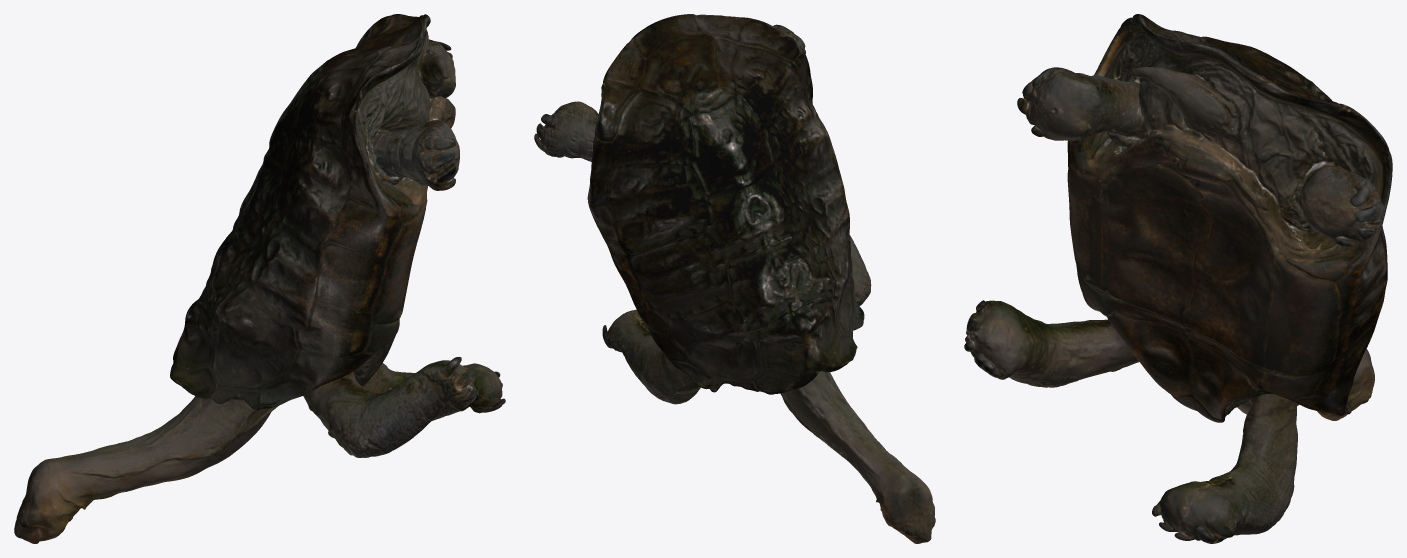
Rendered from NHMW-Zoo1-4196_Galapagosschildkröte_low_res.obj.
3 renders of one model, left to right at view 1: azimuth 30°, elevation 25°; view 2: azimuth 150°, elevation 25°; view 3: azimuth 270°, elevation 25°, orthographic. The views are drawn at different scales.
Size of the model in its own units: 738 by 760 by 523.
1 material, 1 textured.
